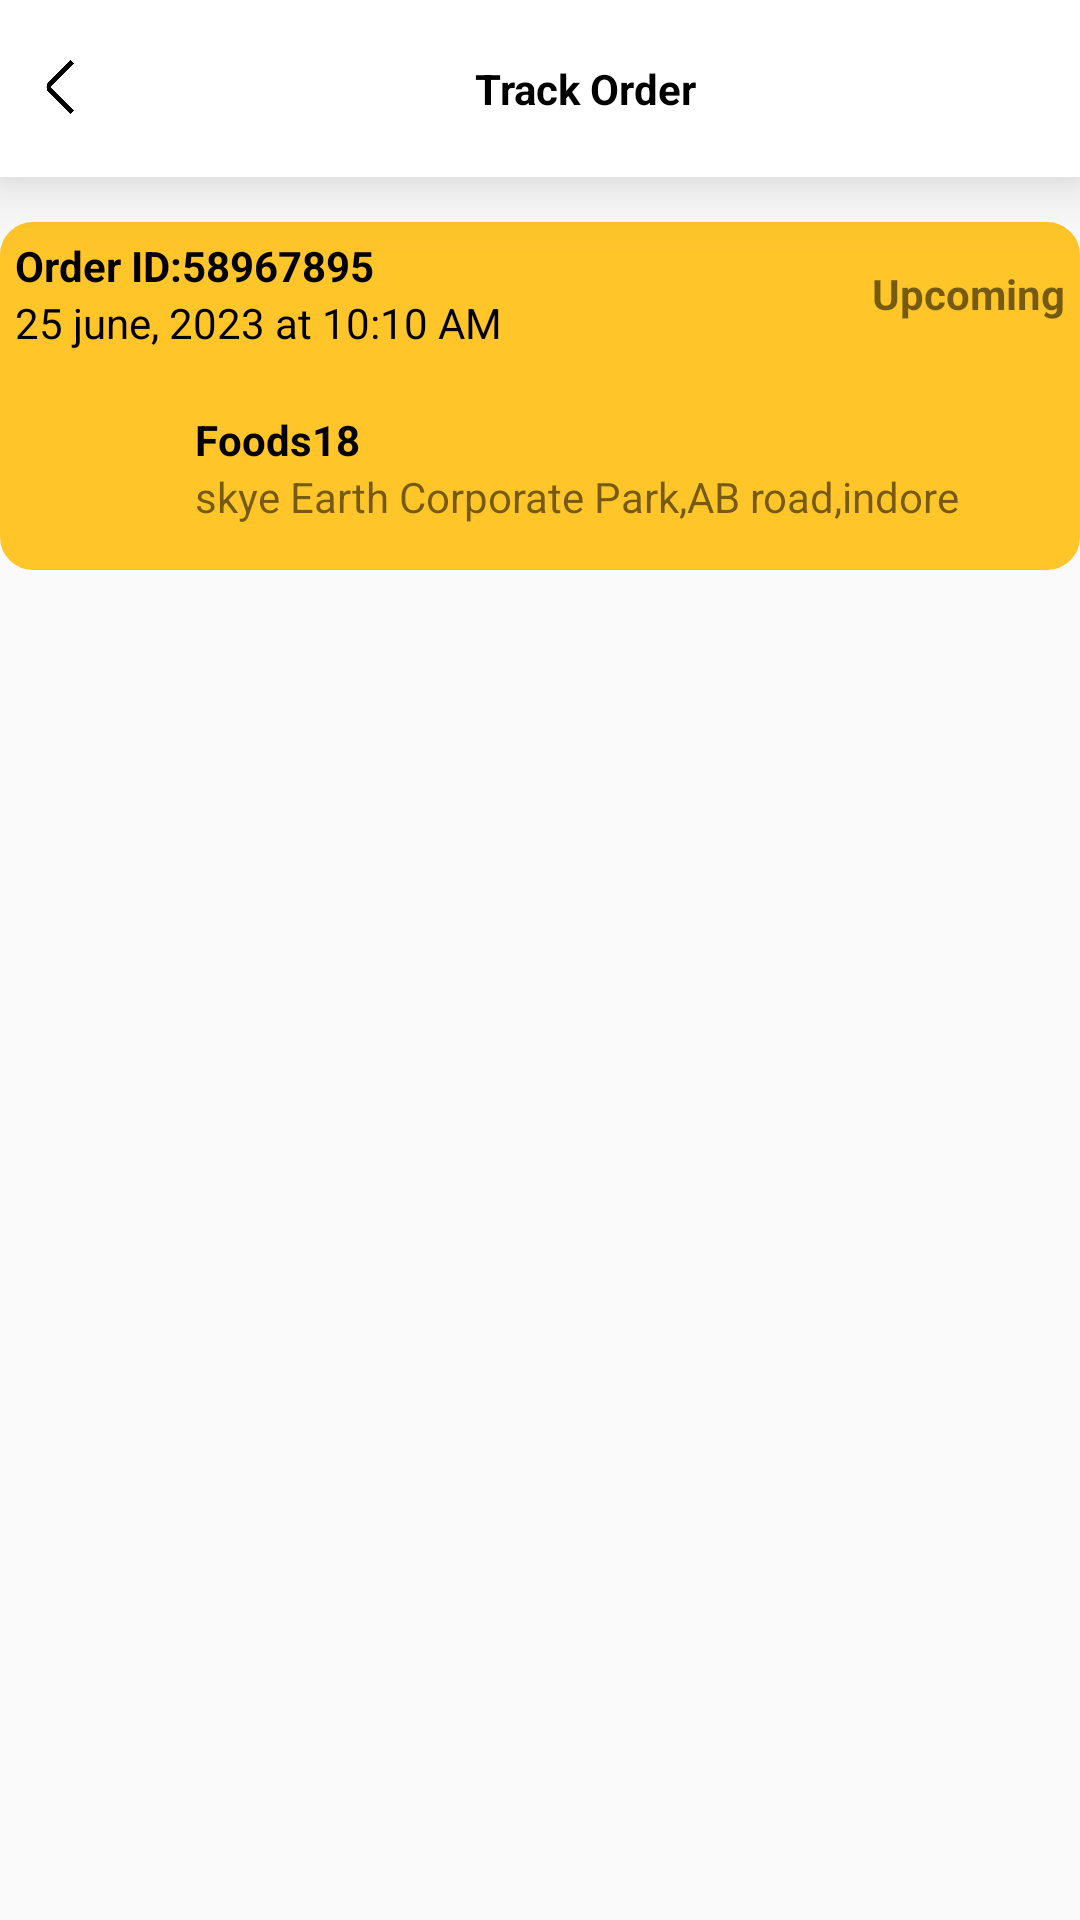

Icon bounding boxes for this 1080x1920 phone screenshot, format (x1,y1,x2,y2):
back: (46,60,74,114)
